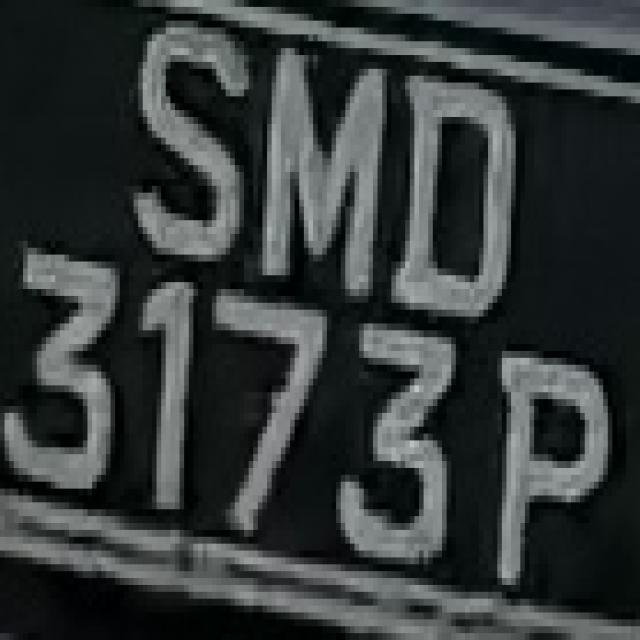1: (138, 206, 194, 530)
3: (332, 289, 446, 585), (14, 227, 110, 509)
7: (203, 248, 322, 530)
D: (386, 34, 516, 330)
M: (248, 34, 386, 310)
P: (488, 310, 608, 612)
S: (119, 0, 244, 268)
